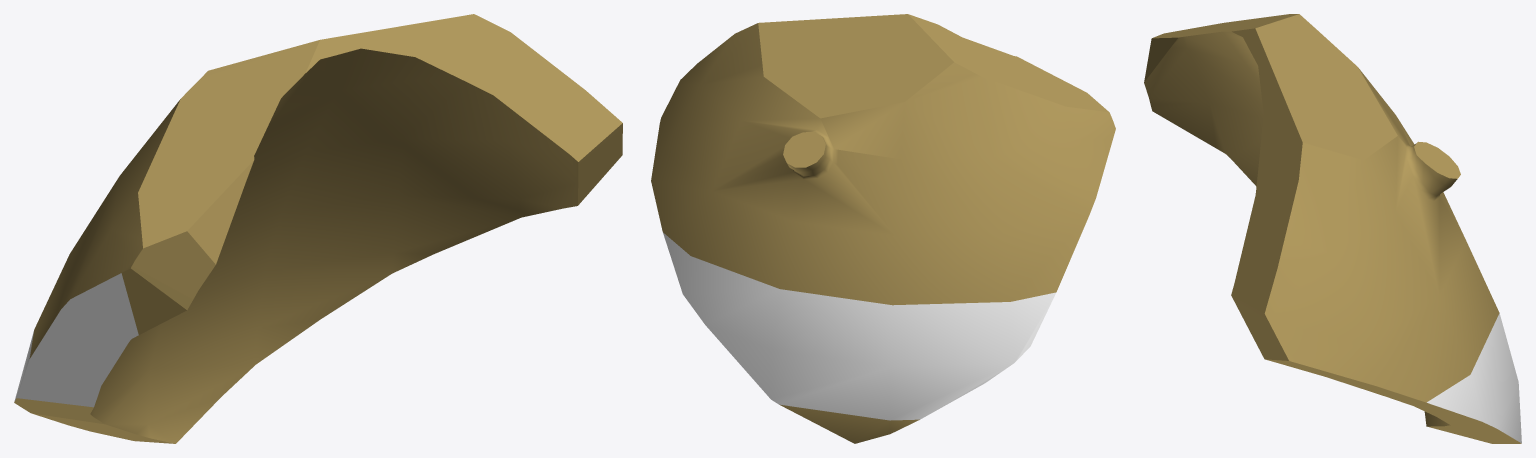
File: broken_pot_cell.fbx
The picture shows the model from 3 angles, left to right: view 1: azimuth 30°, elevation 25°; view 2: azimuth 150°, elevation 25°; view 3: azimuth 270°, elevation 25°; orthographic projection. The views are drawn at different scales.
Visible parts, largest first — view 1: broken_pot_cell; view 2: broken_pot_cell; view 3: broken_pot_cell.
Boxes of the visible parts, <box> form: broken_pot_cell: <box>14,14,622,443</box>; broken_pot_cell: <box>651,14,1115,443</box>; broken_pot_cell: <box>1144,14,1521,443</box>.
Size of the model in its own units: 1.71 by 1.37 by 1.07.
